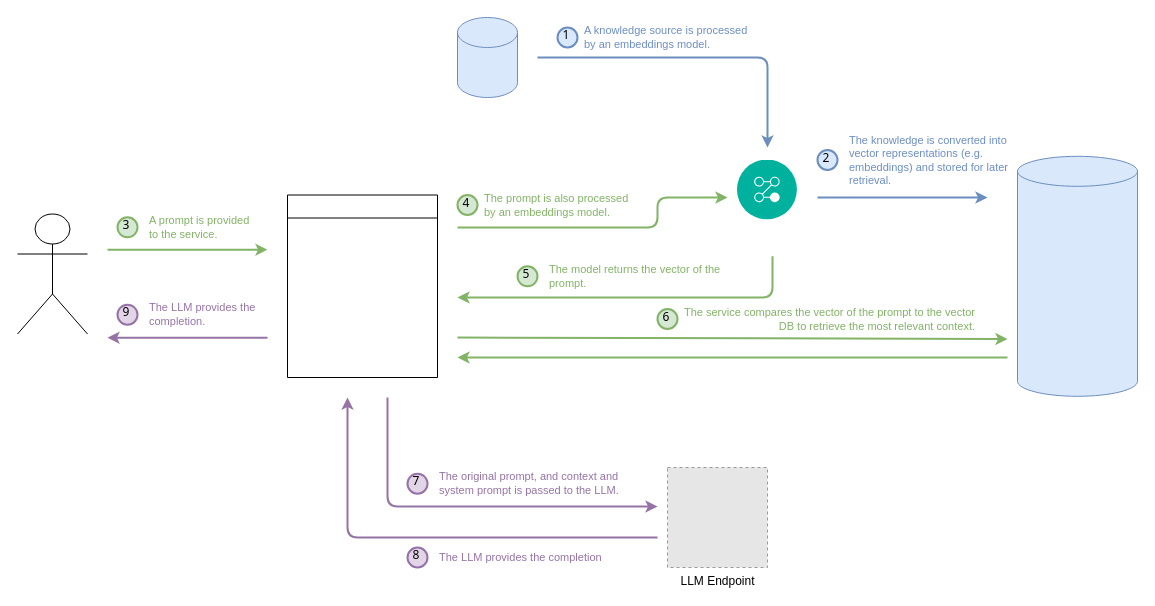
The diagram is 1155 pixels wide and 606 high, and some of its shapes have lost their labels. Grey dashed boxes stand in for pictures. The centre of each missing label's shape, as x and y in pixels:
"Actor" goes at point (52, 273).
"Embeddings model" goes at point (767, 190).
"Knowledge" goes at point (487, 57).
"Vector DB" goes at point (1077, 275).
"WebApp" goes at point (362, 286).
